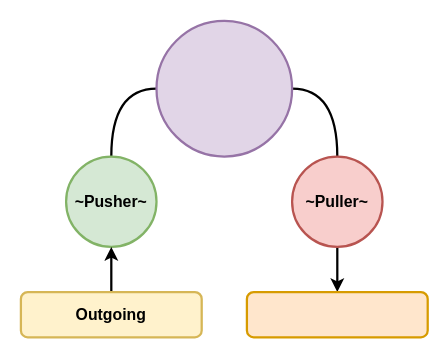
Image size: 447x357. Some labels were removed from this diagram. Here are the shapes that lost their labels. From the top down, the box of each, then its label:
(155, 19, 293, 157): Client
(245, 290, 428, 338): Incoming
